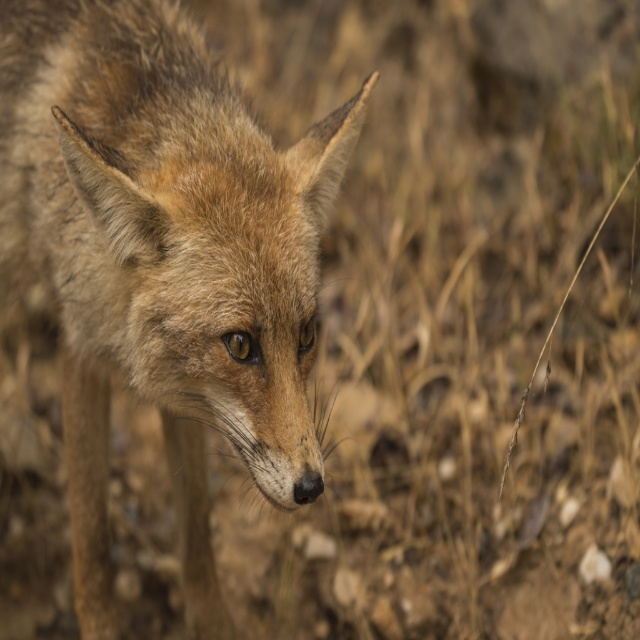Fox: (0, 0, 382, 640)
